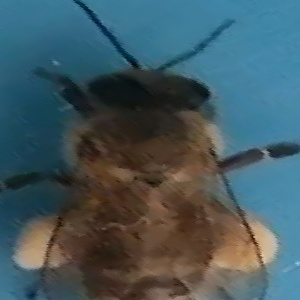bee: (22, 23, 290, 300)
